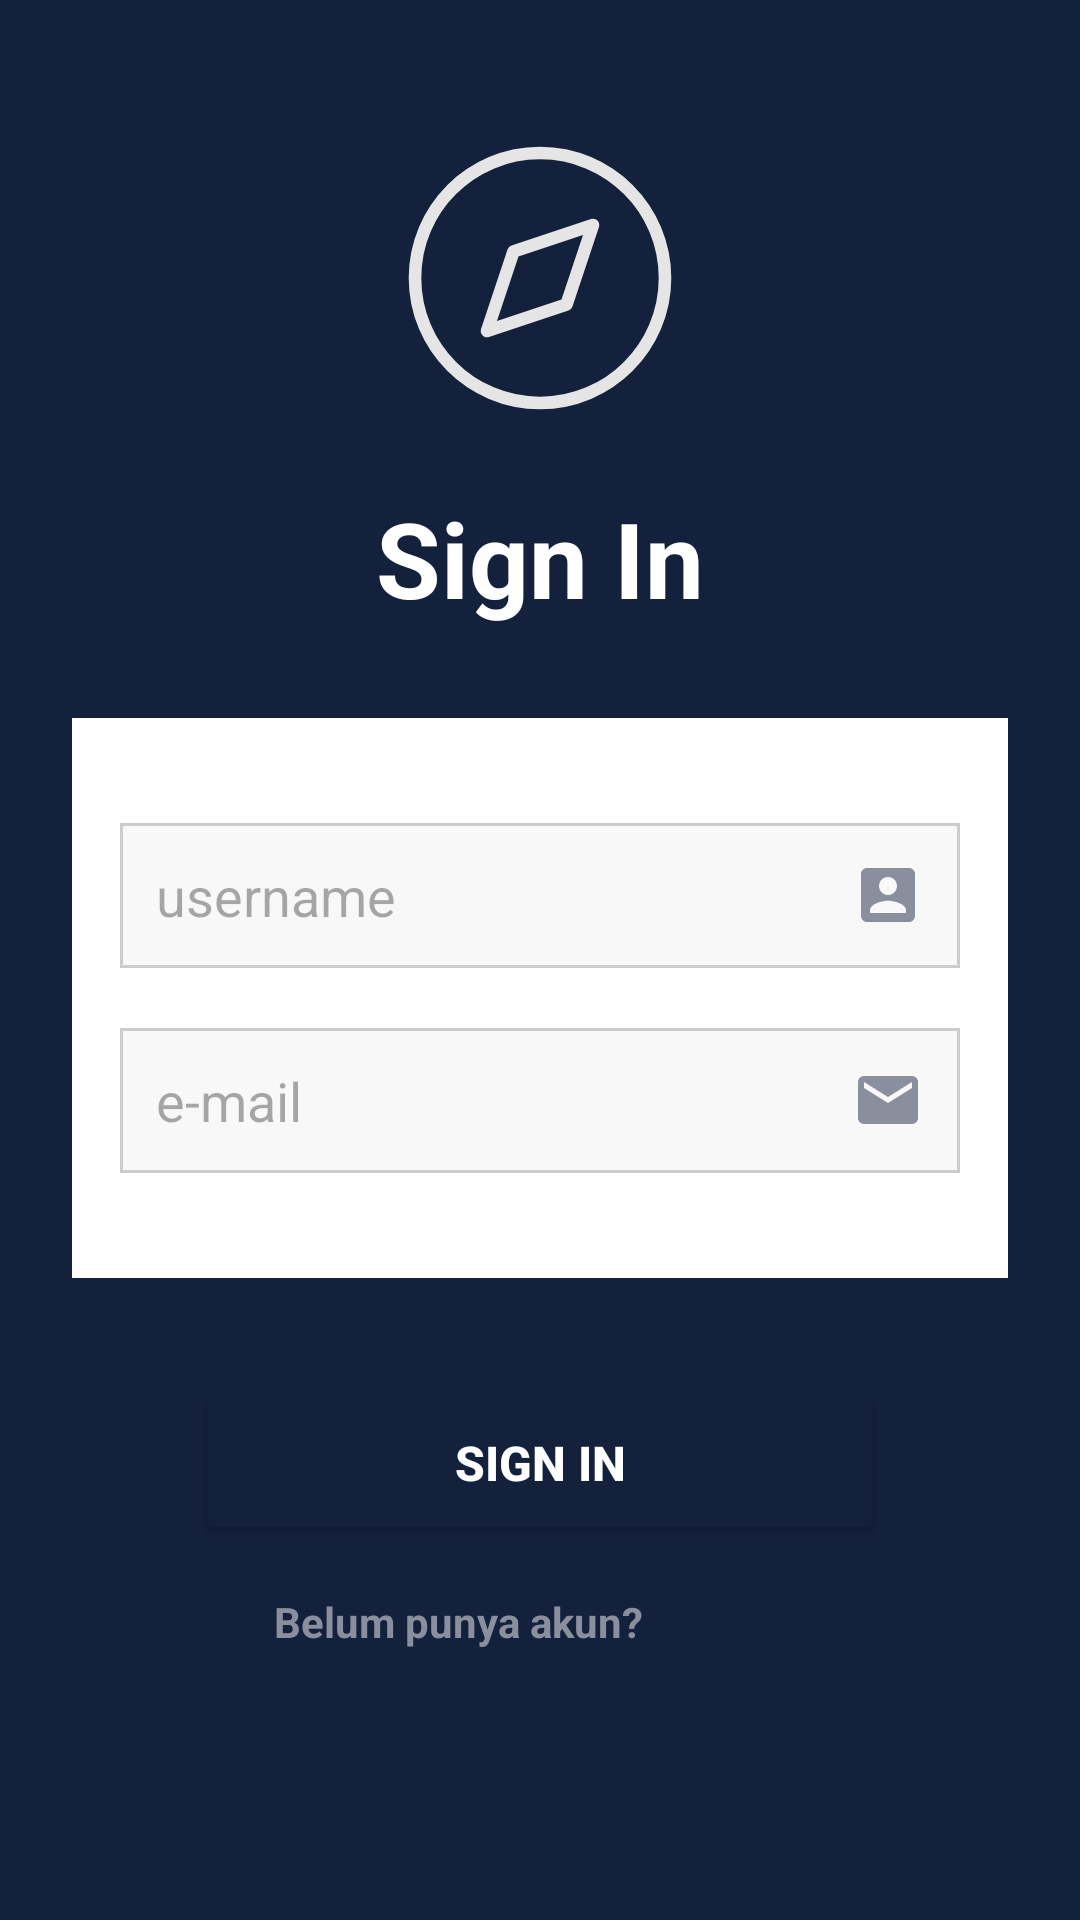

Point at icon controls on the screen. Image size 1080 x 1920, points as [x,y].
compass: [540,278]
